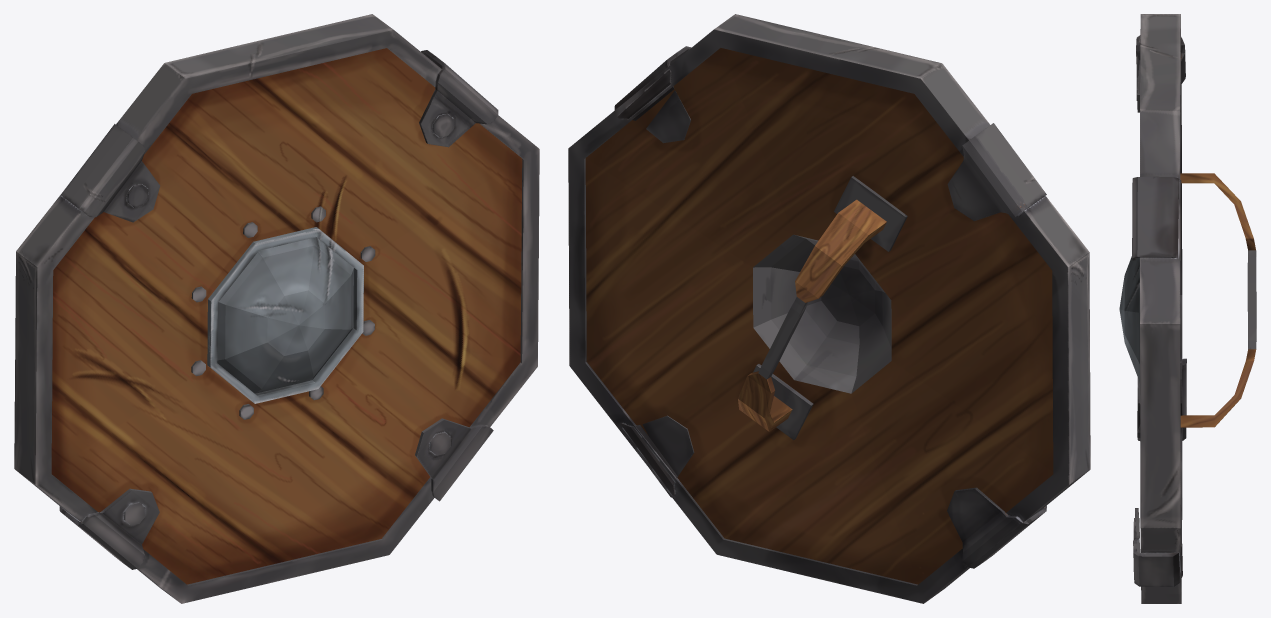
File: ShieldRelic.fbx
The picture shows the model from 3 angles, left to right: view 1: azimuth 30°, elevation 25°; view 2: azimuth 150°, elevation 25°; view 3: azimuth 270°, elevation 25°; orthographic projection. The views are drawn at different scales.
Parts seen in each view (by area): view 1: escudo; view 2: escudo; view 3: escudo.
Part boxes in pixels (bbox=[...]): escudo: bbox=[14, 14, 539, 603]; escudo: bbox=[568, 14, 1090, 603]; escudo: bbox=[1119, 14, 1256, 603].
Size of the model in its own units: 0.8797 by 0.8797 by 0.2203.
